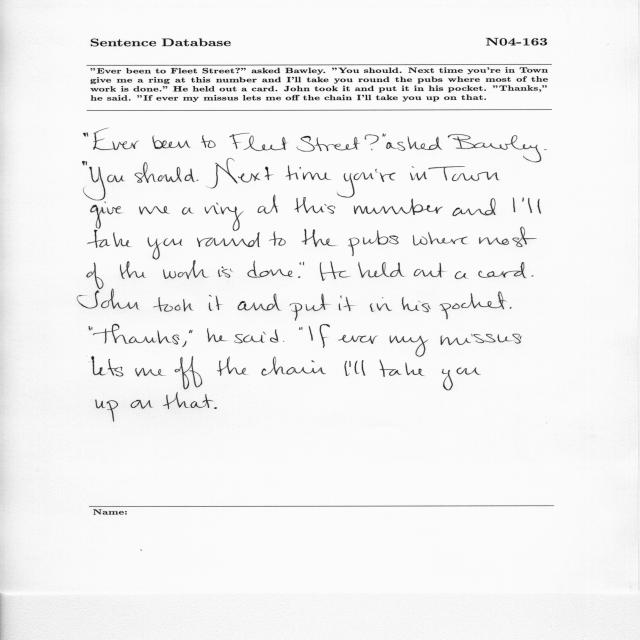word: (448, 134, 541, 162), (92, 324, 187, 347), (207, 158, 274, 189), (440, 292, 507, 320), (354, 199, 443, 215), (197, 231, 286, 247), (348, 230, 399, 256), (135, 162, 195, 183), (78, 289, 140, 309), (261, 357, 326, 376), (479, 227, 537, 247), (205, 203, 244, 231), (428, 166, 500, 181), (290, 294, 330, 321), (229, 133, 288, 151), (93, 128, 139, 150), (297, 136, 360, 152), (384, 134, 443, 151), (337, 172, 374, 198), (175, 357, 203, 390), (83, 161, 106, 200), (442, 368, 481, 391), (441, 334, 522, 345), (163, 261, 209, 280), (91, 202, 123, 229), (163, 392, 213, 409), (390, 335, 428, 357), (379, 359, 425, 377), (148, 237, 183, 260), (88, 230, 132, 248), (478, 262, 527, 278), (247, 261, 293, 278), (453, 198, 496, 216), (358, 262, 405, 278), (238, 294, 282, 311), (413, 232, 467, 245), (295, 197, 336, 214), (286, 165, 331, 180), (92, 356, 124, 377), (302, 229, 337, 247), (234, 330, 279, 344), (320, 261, 351, 281), (217, 356, 248, 376), (153, 297, 193, 312), (308, 324, 330, 348), (153, 136, 191, 149), (96, 400, 118, 422), (120, 261, 146, 279), (414, 263, 445, 278), (87, 262, 104, 289), (402, 297, 431, 312), (258, 195, 278, 214), (338, 335, 378, 344), (370, 297, 392, 312), (522, 197, 541, 214), (207, 328, 227, 342), (375, 169, 396, 182), (135, 368, 165, 377), (339, 295, 355, 311), (139, 206, 170, 214), (410, 167, 427, 181), (365, 135, 379, 151), (209, 295, 222, 311), (131, 400, 153, 409), (201, 135, 216, 148), (354, 360, 366, 376), (218, 267, 233, 278), (107, 175, 125, 183), (344, 361, 351, 376), (455, 271, 468, 279), (182, 207, 193, 215), (298, 262, 302, 278), (513, 198, 516, 213), (84, 132, 89, 137), (89, 326, 91, 331), (299, 327, 302, 330), (382, 133, 384, 137), (189, 330, 191, 333), (191, 330, 193, 333), (214, 407, 217, 409), (303, 262, 304, 266), (532, 275, 534, 277), (510, 307, 512, 309), (544, 149, 547, 150), (197, 180, 199, 181), (283, 341, 284, 342)
